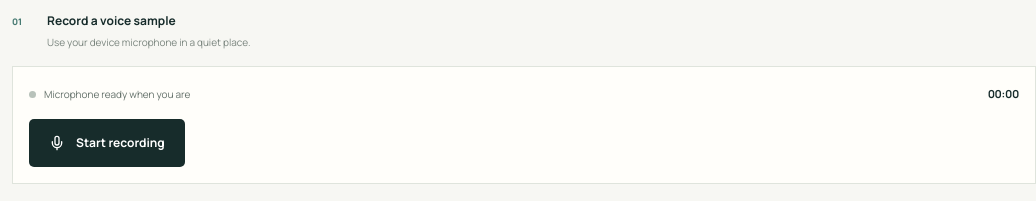
Test case: AudioRecorder › stops active microphone tracks when the component unmounts
Click the button "Start recording": coordinates (107, 143) [29,119,185,167]
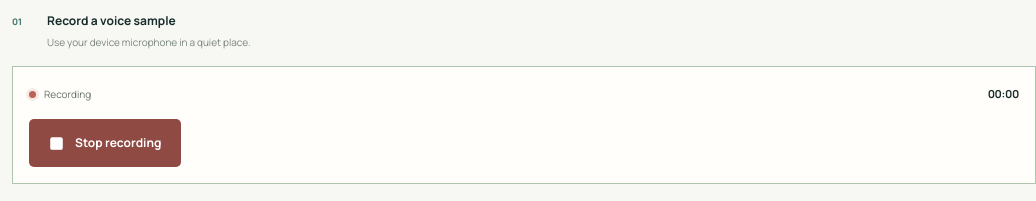
Expected: the text "Recording" is shown, [44,86,91,102]
